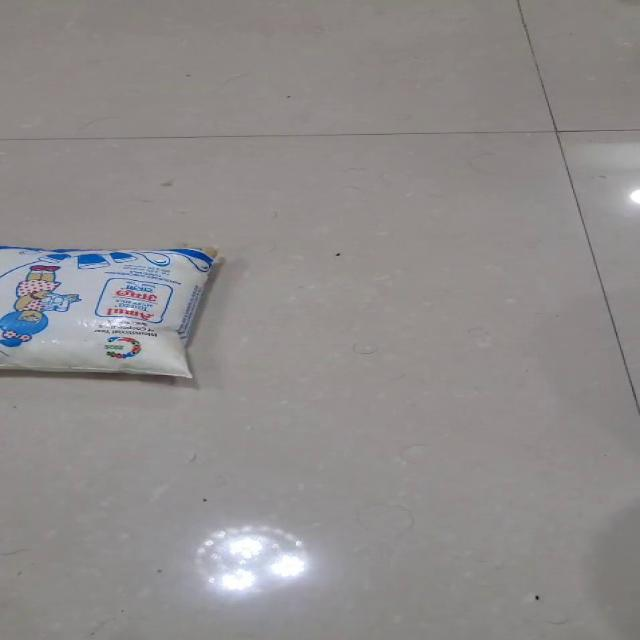plastic: (0, 244, 220, 378)
